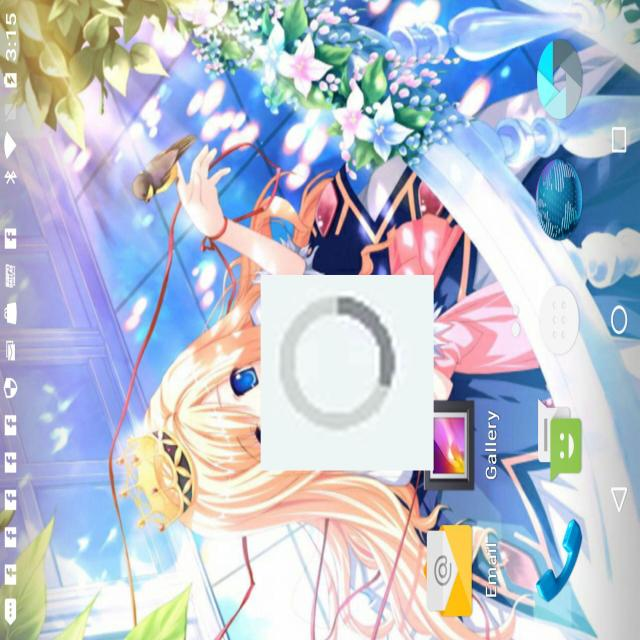misdirection: (261, 275, 434, 470)
